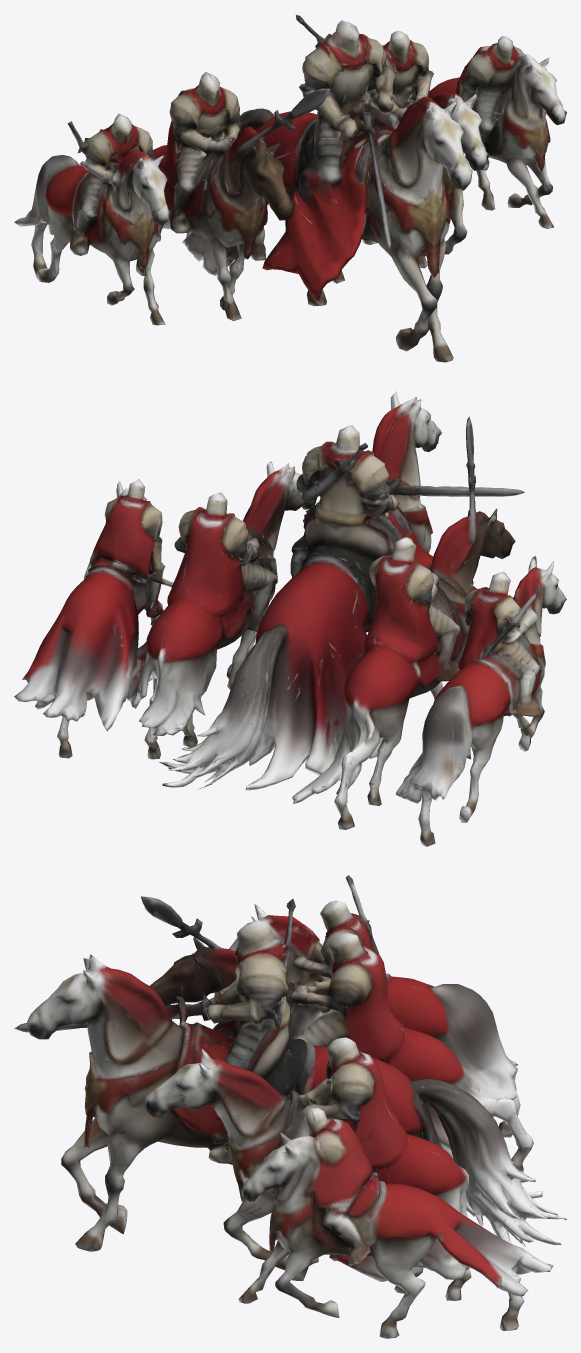
File: Knights_on_Horseback Flawed_final.glb
3 renders of one model, top to bottom at view 1: azimuth 30°, elevation 25°; view 2: azimuth 150°, elevation 25°; view 3: azimuth 270°, elevation 25°, orthographic. The views are drawn at different scales.
Visible parts, largest first — view 1: Mesh1.0; view 2: Mesh1.0; view 3: Mesh1.0.
Boxes of the visible parts, x1,y1,x2,y2 form: Mesh1.0: [14, 14, 566, 362]; Mesh1.0: [14, 391, 566, 846]; Mesh1.0: [14, 875, 566, 1338].
Bounding box in the file's own units: 4.88 × 3 × 4.55.
Materials: 1 (1 with a texture image).
